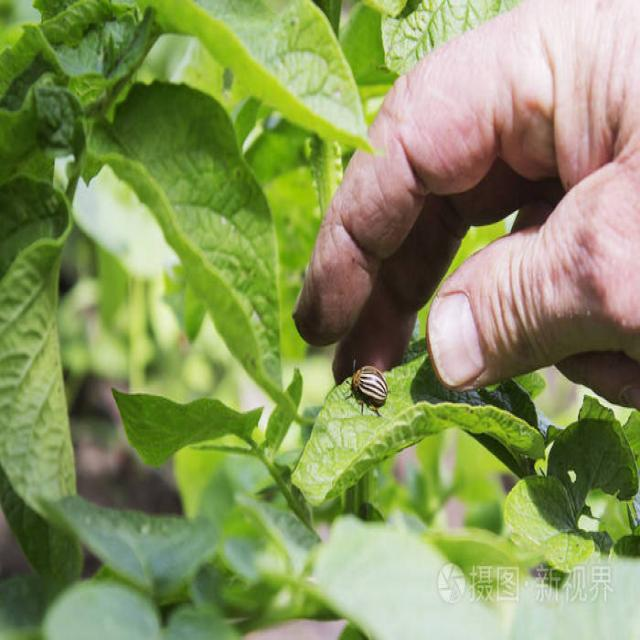ShuCaiHuaBanChong-Grown-: (344, 350, 398, 441)
